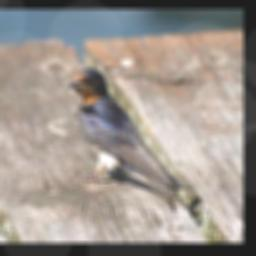Swallow: (67, 66, 202, 219)
